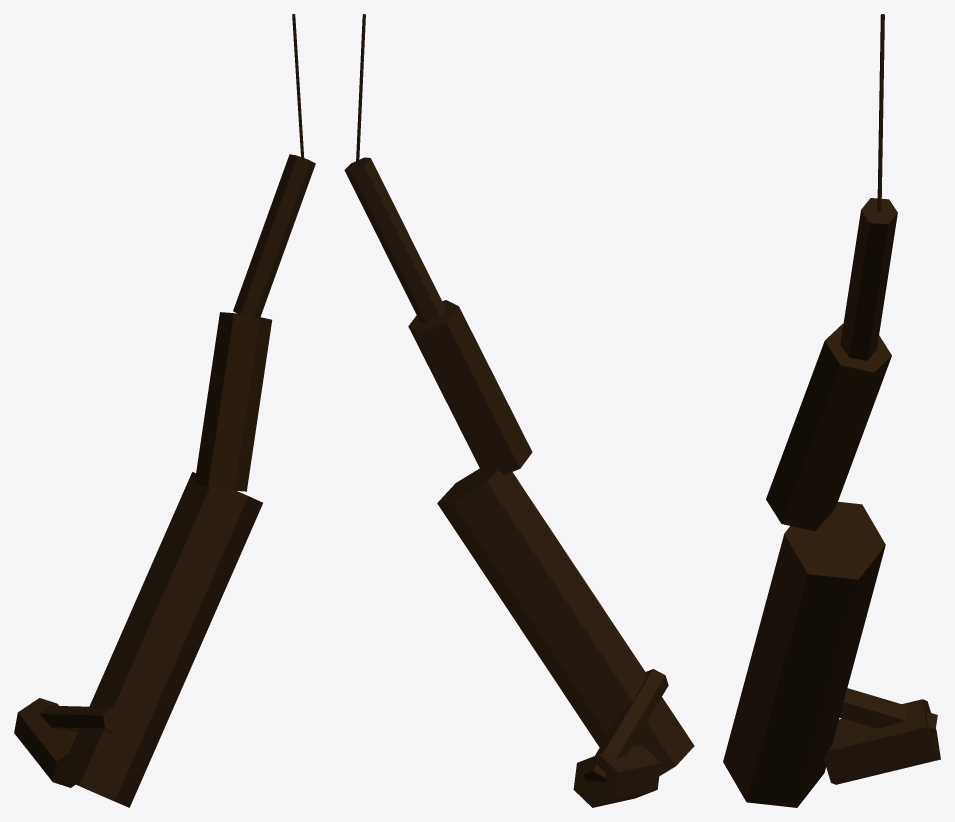
The model's file is 2022_tree_547_no_leaf.obj.
The picture shows the model from 3 angles, left to right: view 1: azimuth 30°, elevation 25°; view 2: azimuth 150°, elevation 25°; view 3: azimuth 270°, elevation 25°; orthographic projection. The views are drawn at different scales.
Parts seen in each view (by area): view 1: TrunkAndBranches; view 2: TrunkAndBranches; view 3: TrunkAndBranches.
Part boxes in pixels (bbox=[...]): TrunkAndBranches: bbox=[14, 14, 315, 807]; TrunkAndBranches: bbox=[344, 14, 694, 807]; TrunkAndBranches: bbox=[723, 14, 940, 807].
Bounding box in the file's own units: 0.5222 × 1.25 × 0.2638.
